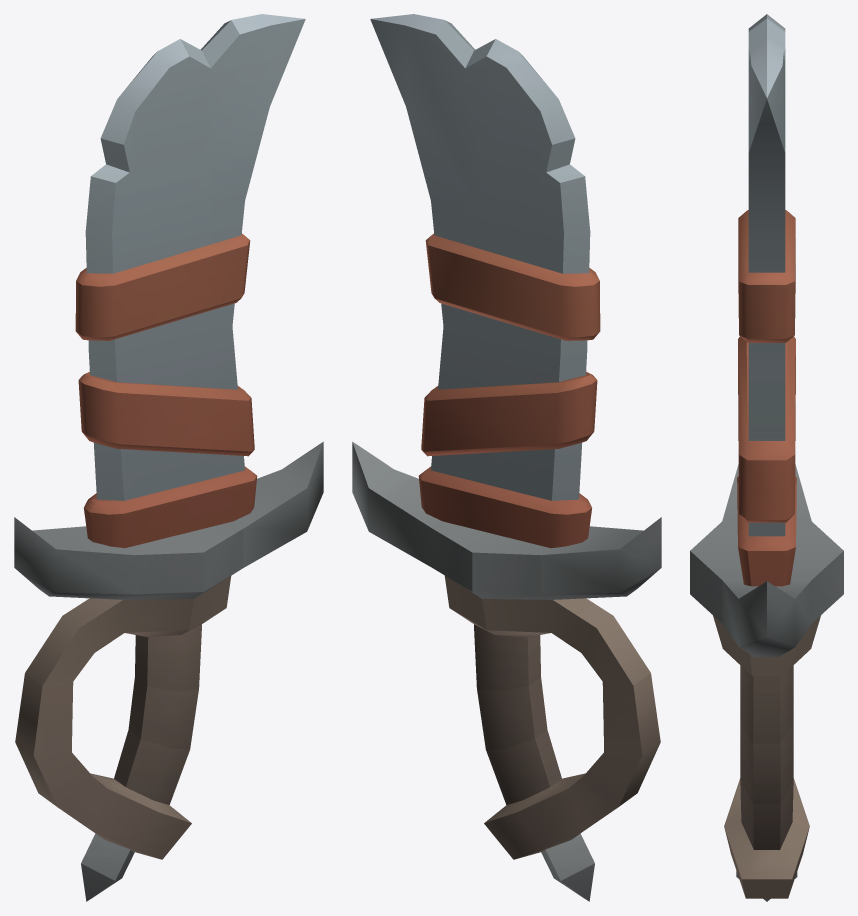
The model's file is kaykit-skeleton-blade.glb.
3 renders of one model, left to right at view 1: azimuth 30°, elevation 25°; view 2: azimuth 150°, elevation 25°; view 3: azimuth 270°, elevation 25°, orthographic. The views are drawn at different scales.
Parts seen in each view (by area): view 1: Skeleton_Blade; view 2: Skeleton_Blade; view 3: Skeleton_Blade.
Part boxes in pixels (x1,y1,x2,y2): Skeleton_Blade: (14, 14, 323, 901); Skeleton_Blade: (352, 14, 661, 901); Skeleton_Blade: (690, 14, 843, 901).
Bounding box in the file's own units: 0.5727 × 1.5 × 0.2222.
Materials: 1 (1 with a texture image).
